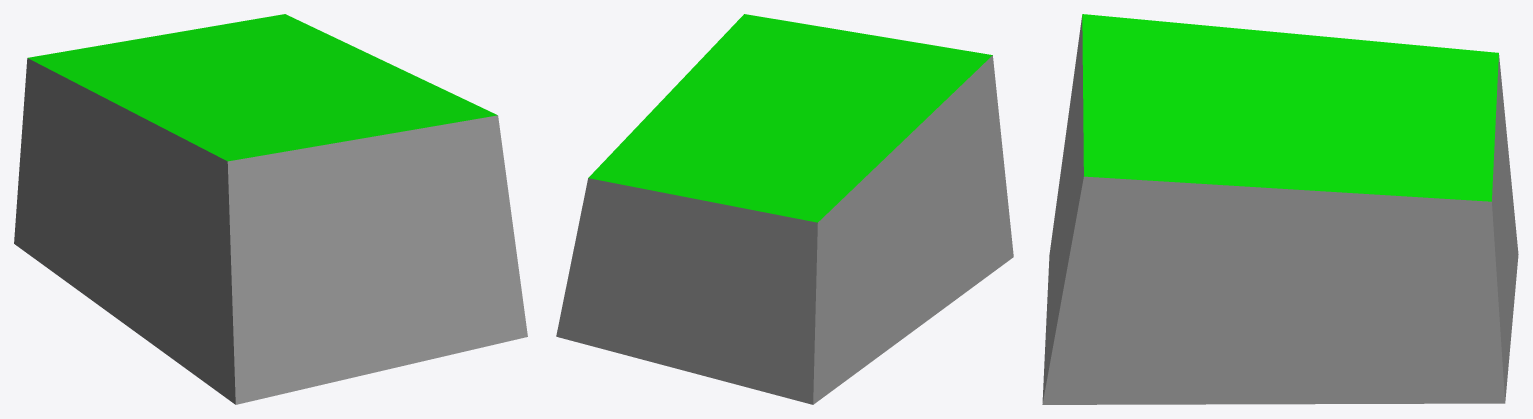
File: collider_rock_gen_mini_C.fbx
3 renders of one model, left to right at view 1: azimuth 30°, elevation 25°; view 2: azimuth 150°, elevation 25°; view 3: azimuth 270°, elevation 25°, orthographic. The views are drawn at different scales.
Parts seen in each view (by area): view 1: collider_rock_gen_mini_C; view 2: collider_rock_gen_mini_C; view 3: collider_rock_gen_mini_C.
Boxes of the visible parts, x1,y1,x2,y2 form: collider_rock_gen_mini_C: [14, 14, 527, 404]; collider_rock_gen_mini_C: [556, 14, 1013, 404]; collider_rock_gen_mini_C: [1042, 14, 1518, 404].
Bounding box in the file's own units: 5.7 × 4.33 × 7.62.
